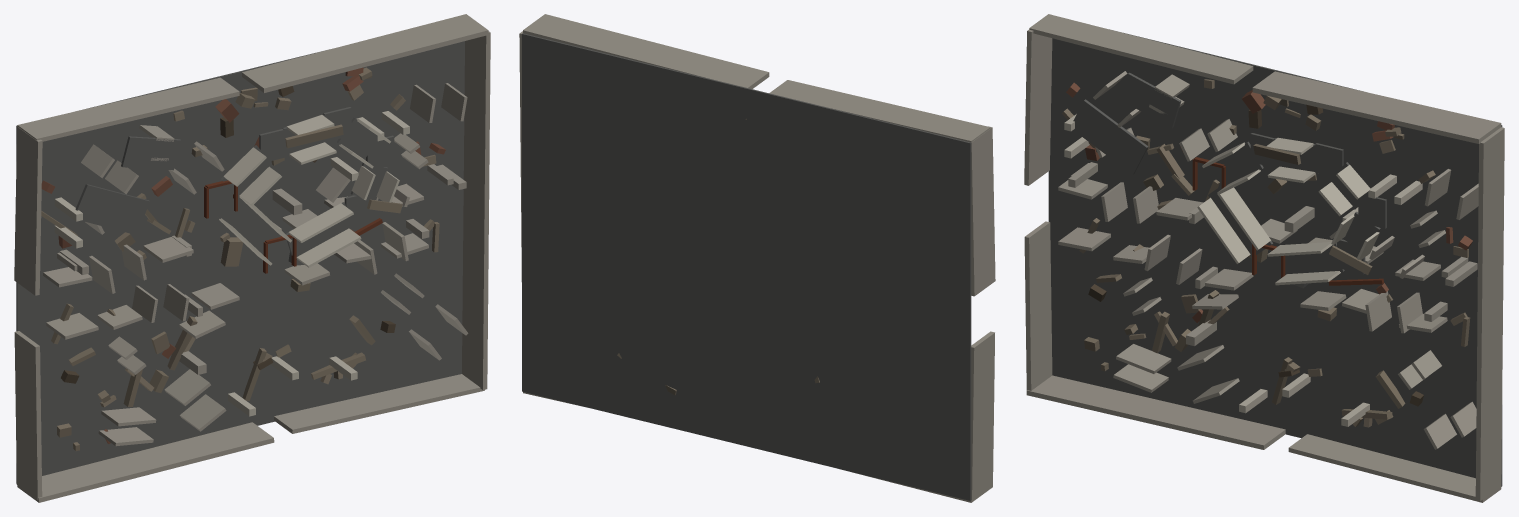
The model's file is Ruins-Urban-01_medium.obj.
3 renders of one model, left to right at view 1: azimuth 30°, elevation 25°; view 2: azimuth 150°, elevation 25°; view 3: azimuth 330°, elevation 25°, orthographic.
Parts seen in each view (by area): view 1: floor_slab, east_boundary, north_boundary_east, south_boundary_west, north_boundary_west, south_boundary_east, west_boundary_north, west_boundary_south, utility_ceiling_01, utility_ceiling_02, upper_walkway_uc_ua, upper_corridor_u4_uc_right (+32 smaller); view 2: floor_slab, north_boundary_east, north_boundary_west, west_boundary_north, west_boundary_south; view 3: floor_slab, east_boundary, south_boundary_west, north_boundary_east, north_boundary_west, south_boundary_east, west_boundary_south, west_boundary_north, utility_ceiling_01, utility_ceiling_02, upper_corridor_uc_ua_right, upper_corridor_uc_ua_left (+29 smaller).
Part boxes in pixels (x1=…): floor_slab: x1=16, y1=41, x2=464, y2=483; east_boundary: x1=462, y1=31, x2=490, y2=389; north_boundary_east: x1=242, y1=14, x2=488, y2=92; south_boundary_west: x1=17, y1=422, x2=274, y2=502; north_boundary_west: x1=17, y1=77, x2=239, y2=141; south_boundary_east: x1=274, y1=374, x2=484, y2=433; west_boundary_north: x1=14, y1=126, x2=42, y2=295; west_boundary_south: x1=14, y1=331, x2=42, y2=499; utility_ceiling_01: x1=75, y1=184, x2=149, y2=234; utility_ceiling_02: x1=121, y1=136, x2=181, y2=170; upper_walkway_uc_ua: x1=217, y1=194, x2=280, y2=254; upper_corridor_u4_uc_right: x1=288, y1=203, x2=353, y2=242; floor_slab: x1=522, y1=33, x2=971, y2=500; north_boundary_east: x1=523, y1=14, x2=769, y2=89; north_boundary_west: x1=769, y1=80, x2=990, y2=142; west_boundary_north: x1=971, y1=126, x2=995, y2=296; west_boundary_south: x1=971, y1=331, x2=994, y2=500; floor_slab: x1=1048, y1=29, x2=1502, y2=486; east_boundary: x1=1475, y1=127, x2=1504, y2=501; south_boundary_west: x1=1026, y1=375, x2=1285, y2=449; north_boundary_east: x1=1252, y1=71, x2=1501, y2=143; north_boundary_west: x1=1029, y1=14, x2=1253, y2=84; south_boundary_east: x1=1288, y1=434, x2=1501, y2=502; west_boundary_south: x1=1024, y1=221, x2=1052, y2=390; west_boundary_north: x1=1024, y1=29, x2=1052, y2=185; utility_ceiling_01: x1=1073, y1=99, x2=1148, y2=174; utility_ceiling_02: x1=1120, y1=72, x2=1181, y2=127; upper_corridor_uc_ua_right: x1=1217, y1=187, x2=1270, y2=250; upper_corridor_uc_ua_left: x1=1197, y1=197, x2=1250, y2=263.
Size of the model in its own units: 42.62 by 32.51 by 6.73.
